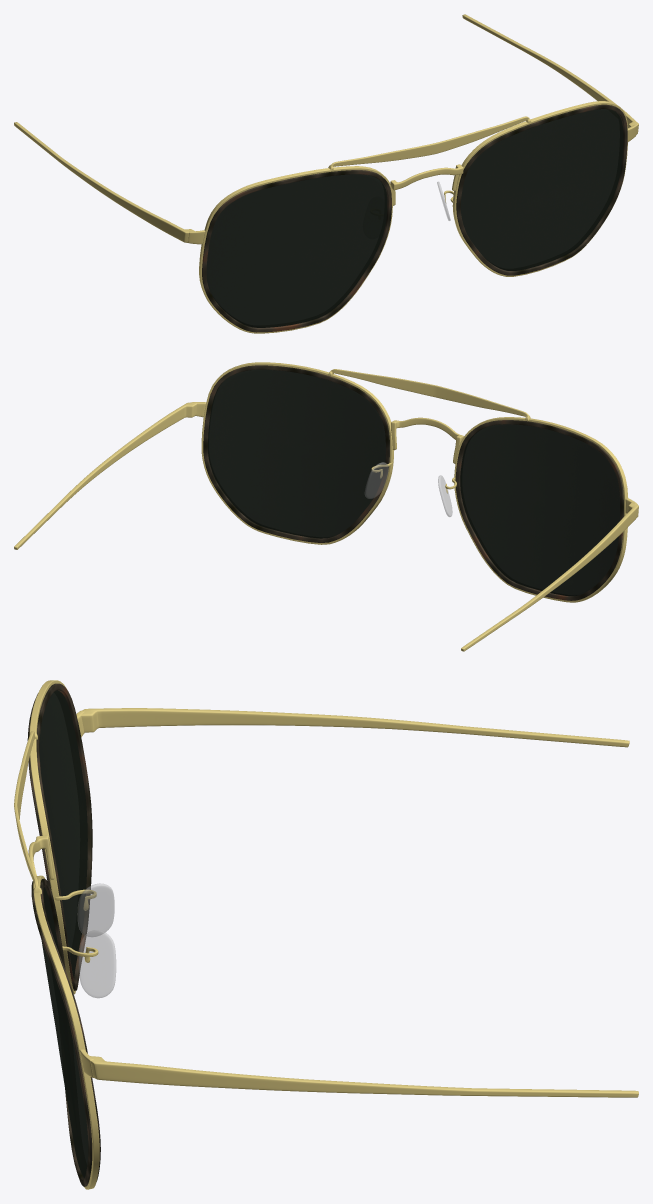
Rendered from MarshalApp.glb.
3 views of the same model, one above another, from view 1: azimuth 30°, elevation 25°; view 2: azimuth 150°, elevation 25°; view 3: azimuth 270°, elevation 25° (orthographic). The views are drawn at different scales.
Parts seen in each view (by area): view 1: Lentes.001, Armacao; view 2: Lentes.001, Armacao, Pontes.001; view 3: Armacao, Lentes.001, Pontes.001.
Part boxes in pixels (x1,y1,x2,y2): Lentes.001: [206, 109, 623, 327]; Armacao: [14, 14, 638, 333]; Lentes.001: [208, 369, 619, 596]; Armacao: [14, 362, 638, 651]; Pontes.001: [364, 462, 452, 516]; Armacao: [14, 680, 638, 1189]; Lentes.001: [39, 690, 88, 1178]; Pontes.001: [77, 883, 116, 998].
Bounding box in the file's own units: 0.1576 × 0.0547 × 0.1151.
3 materials, 3 textured.
